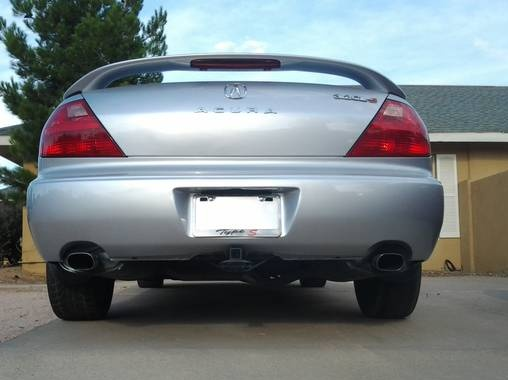acura: (6, 48, 455, 332)
